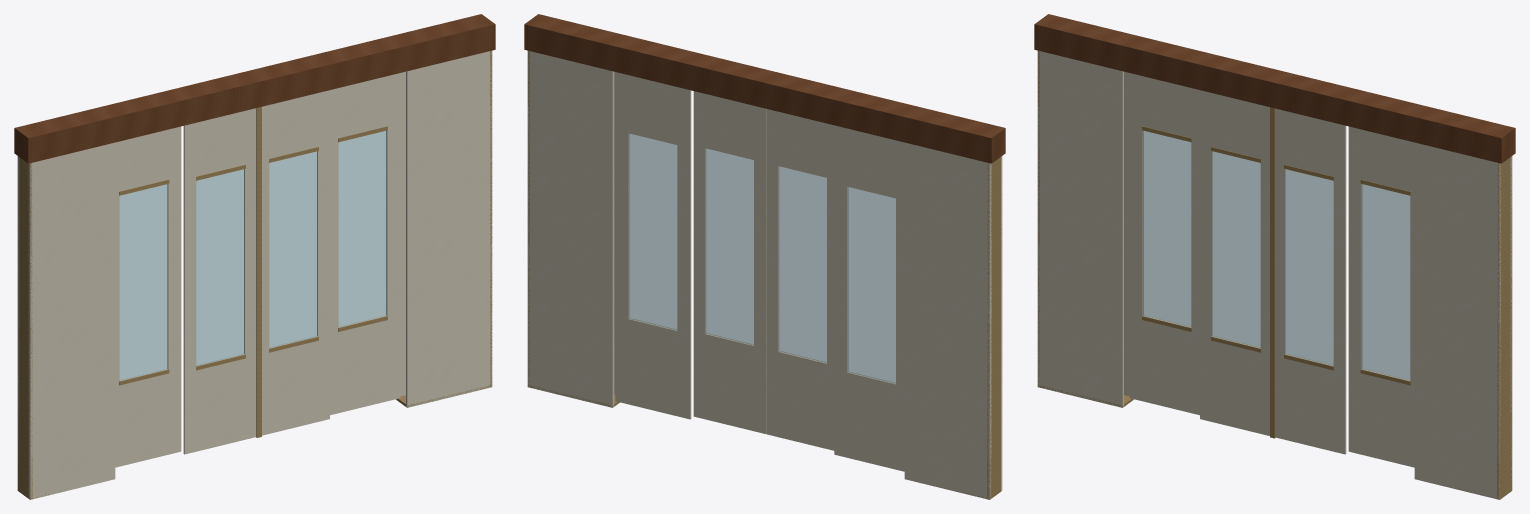
The model's file is AST-DOR-003.glb.
The picture shows the model from 3 angles, left to right: view 1: azimuth 30°, elevation 25°; view 2: azimuth 150°, elevation 25°; view 3: azimuth 330°, elevation 25°; orthographic projection.
Parts seen in each view (by area): view 1: LIFT_fixed_ivory_enamel, LIFT_fixed_warm_walnut, LIFT_moving_ivory_enamel, LIFT_moving_ivory_enamel.003, LIFT_moving_ivory_enamel.002, LIFT_moving_ivory_enamel.001, LIFT_moving_glass, LIFT_moving_glass.002, LIFT_moving_glass.001, LIFT_moving_glass.003, LIFT_fixed_champagne_metal, LIFT_moving_champagne_metal; view 2: LIFT_fixed_ivory_enamel, LIFT_fixed_warm_walnut, LIFT_moving_ivory_enamel.003, LIFT_moving_ivory_enamel.002, LIFT_moving_ivory_enamel.001, LIFT_moving_ivory_enamel, LIFT_moving_glass.001, LIFT_moving_glass.003, LIFT_moving_glass.002, LIFT_moving_glass, LIFT_fixed_champagne_metal; view 3: LIFT_fixed_ivory_enamel, LIFT_fixed_warm_walnut, LIFT_moving_ivory_enamel.002, LIFT_moving_ivory_enamel.001, LIFT_moving_ivory_enamel, LIFT_moving_ivory_enamel.003, LIFT_moving_glass.002, LIFT_moving_glass, LIFT_moving_glass.003, LIFT_moving_glass.001, LIFT_fixed_champagne_metal, LIFT_moving_champagne_metal.
Boxes of the visible parts, left/top/right/bottom form: LIFT_fixed_ivory_enamel: left=17, top=50, right=492, bottom=499; LIFT_fixed_warm_walnut: left=14, top=14, right=495, bottom=163; LIFT_moving_ivory_enamel: left=183, top=108, right=256, bottom=454; LIFT_moving_ivory_enamel.003: left=330, top=73, right=400, bottom=415; LIFT_moving_ivory_enamel.002: left=262, top=90, right=329, bottom=435; LIFT_moving_ivory_enamel.001: left=115, top=126, right=181, bottom=467; LIFT_moving_glass: left=196, top=169, right=244, bottom=365; LIFT_moving_glass.002: left=269, top=151, right=317, bottom=347; LIFT_moving_glass.001: left=119, top=184, right=167, bottom=380; LIFT_moving_glass.003: left=338, top=130, right=386, bottom=327; LIFT_fixed_champagne_metal: left=17, top=51, right=492, bottom=499; LIFT_moving_champagne_metal: left=196, top=107, right=261, bottom=437; LIFT_fixed_ivory_enamel: left=527, top=50, right=1002, bottom=499; LIFT_fixed_warm_walnut: left=524, top=14, right=1005, bottom=163; LIFT_moving_ivory_enamel.003: left=615, top=72, right=691, bottom=419; LIFT_moving_ivory_enamel.002: left=693, top=91, right=766, bottom=433; LIFT_moving_ivory_enamel.001: left=834, top=125, right=904, bottom=471; LIFT_moving_ivory_enamel: left=766, top=109, right=834, bottom=450; LIFT_moving_glass.001: left=847, top=187, right=895, bottom=383; LIFT_moving_glass.003: left=629, top=133, right=677, bottom=330; LIFT_moving_glass.002: left=705, top=148, right=753, bottom=345; LIFT_moving_glass: left=778, top=166, right=826, bottom=363; LIFT_fixed_champagne_metal: left=527, top=51, right=1002, bottom=499; LIFT_fixed_ivory_enamel: left=1037, top=50, right=1512, bottom=499; LIFT_fixed_warm_walnut: left=1034, top=14, right=1515, bottom=163; LIFT_moving_ivory_enamel.002: left=1275, top=108, right=1346, bottom=454; LIFT_moving_ivory_enamel.001: left=1129, top=73, right=1199, bottom=415; LIFT_moving_ivory_enamel: left=1200, top=90, right=1269, bottom=435; LIFT_moving_ivory_enamel.003: left=1348, top=126, right=1414, bottom=467; LIFT_moving_glass.002: left=1285, top=169, right=1333, bottom=365; LIFT_moving_glass: left=1212, top=151, right=1260, bottom=347; LIFT_moving_glass.003: left=1362, top=184, right=1410, bottom=380; LIFT_moving_glass.001: left=1143, top=130, right=1191, bottom=327; LIFT_fixed_champagne_metal: left=1037, top=51, right=1512, bottom=499; LIFT_moving_champagne_metal: left=1211, top=107, right=1275, bottom=438.
Size of the model in its own units: 3.84 by 2.85 by 0.2.
Materials: 4 (3 with a texture image).
